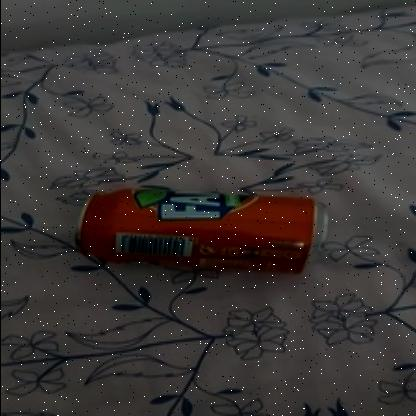Can: (77, 183, 331, 273)
